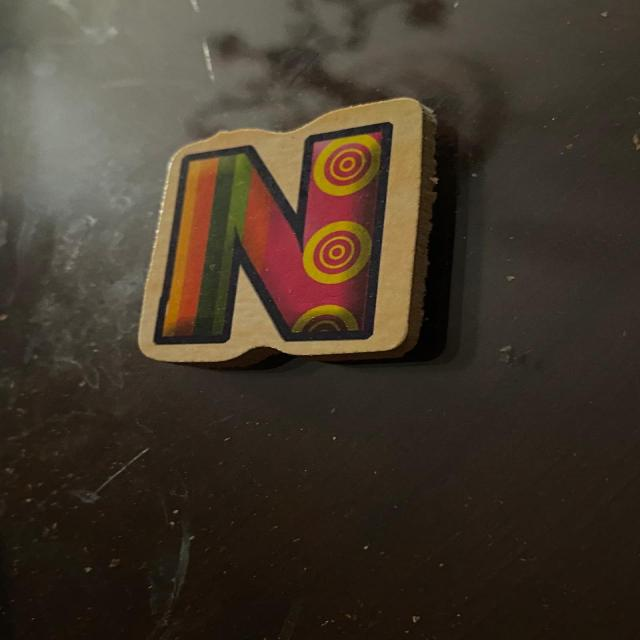N: (139, 99, 437, 365)
